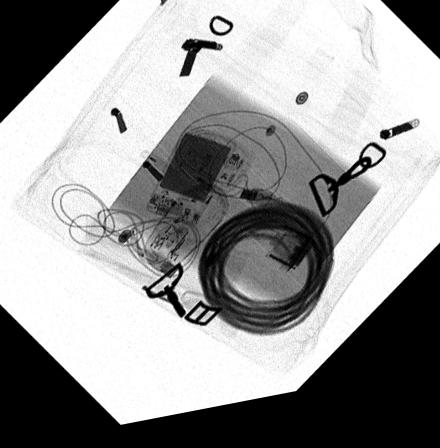Powerbank: (144, 135, 237, 232)
